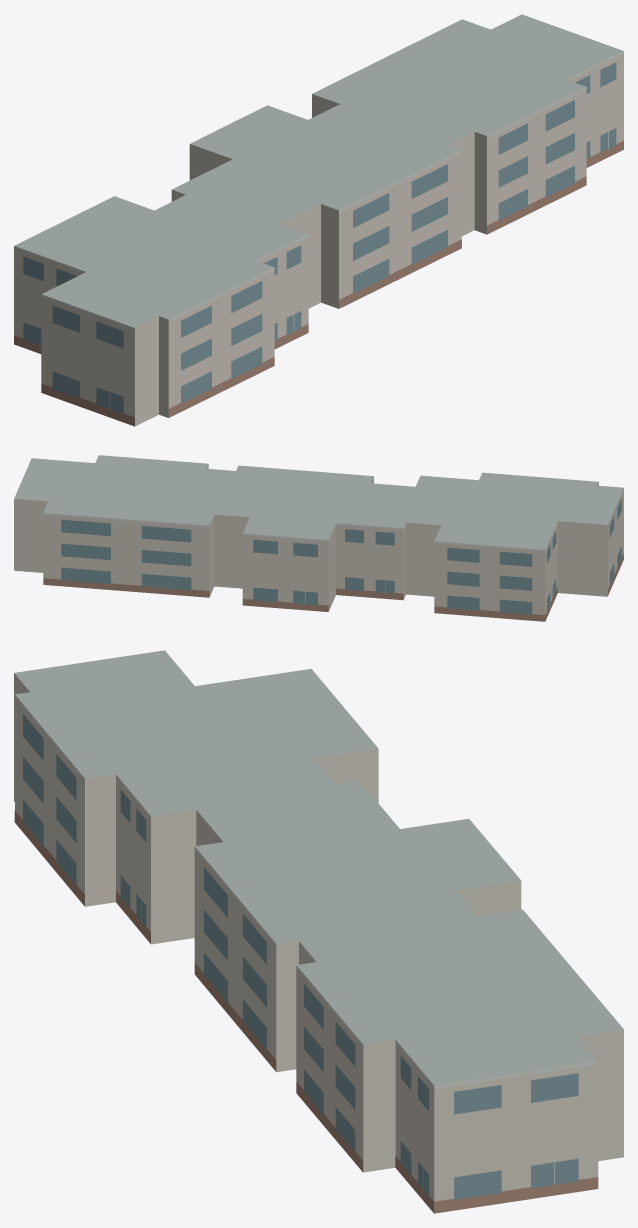
Rendered from residential-77b1830a-9e6b-4747-b266-e92fb7473c77.glb.
The picture shows the model from 3 angles, top to bottom: view 1: azimuth 30°, elevation 25°; view 2: azimuth 150°, elevation 25°; view 3: azimuth 270°, elevation 25°; orthographic projection. The views are drawn at different scales.
Parts seen in each view (by area): view 1: residential-77b1830a-9e6b-4747-b266-e92fb7473c77.tmp; view 2: residential-77b1830a-9e6b-4747-b266-e92fb7473c77.tmp; view 3: residential-77b1830a-9e6b-4747-b266-e92fb7473c77.tmp.
Part boxes in pixels (<box>): residential-77b1830a-9e6b-4747-b266-e92fb7473c77.tmp: <box>14,14,623,426</box>; residential-77b1830a-9e6b-4747-b266-e92fb7473c77.tmp: <box>14,455,623,621</box>; residential-77b1830a-9e6b-4747-b266-e92fb7473c77.tmp: <box>14,650,623,1213</box>.
Size of the model in its own units: 66.66 by 9.15 by 39.48.
